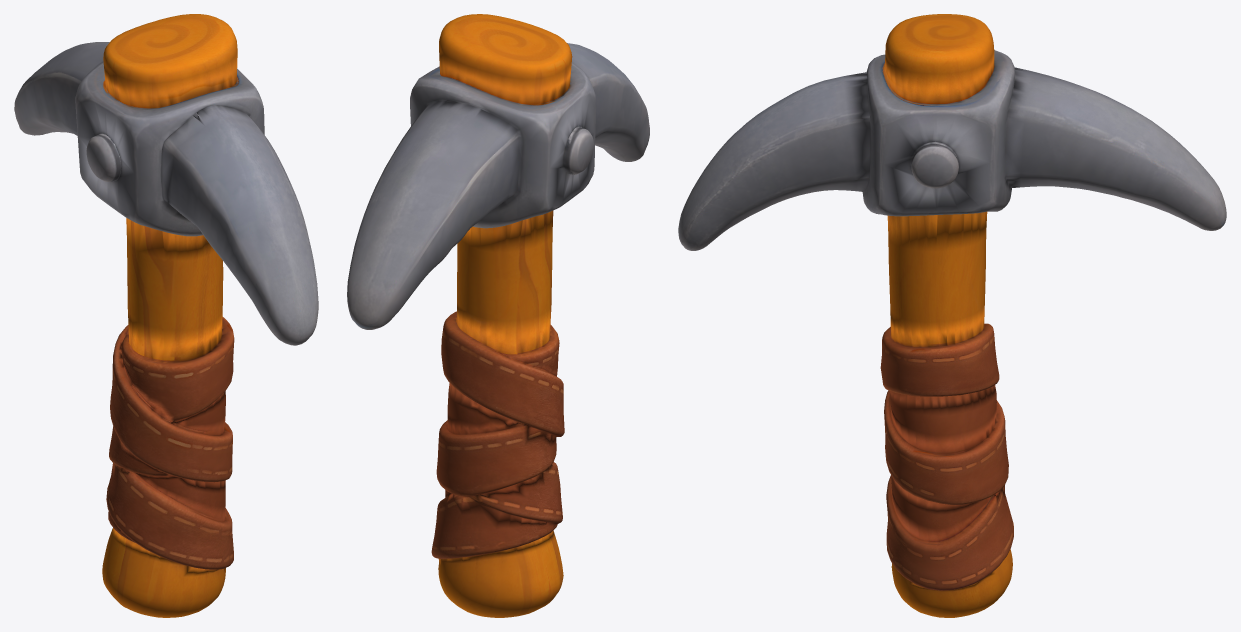
Rendered from T02_pickaxe.fbx.
3 renders of one model, left to right at view 1: azimuth 30°, elevation 25°; view 2: azimuth 150°, elevation 25°; view 3: azimuth 270°, elevation 25°, orthographic.
Parts seen in each view (by area): view 1: tripo_node_6456b88b; view 2: tripo_node_6456b88b; view 3: tripo_node_6456b88b.
Boxes of the visible parts, box(x1,y1,x2,y2) form: tripo_node_6456b88b: box(14, 14, 318, 617); tripo_node_6456b88b: box(347, 14, 649, 617); tripo_node_6456b88b: box(678, 14, 1226, 617).
Bounding box in the file's own units: 0.2966 × 1.03 × 0.8868.
